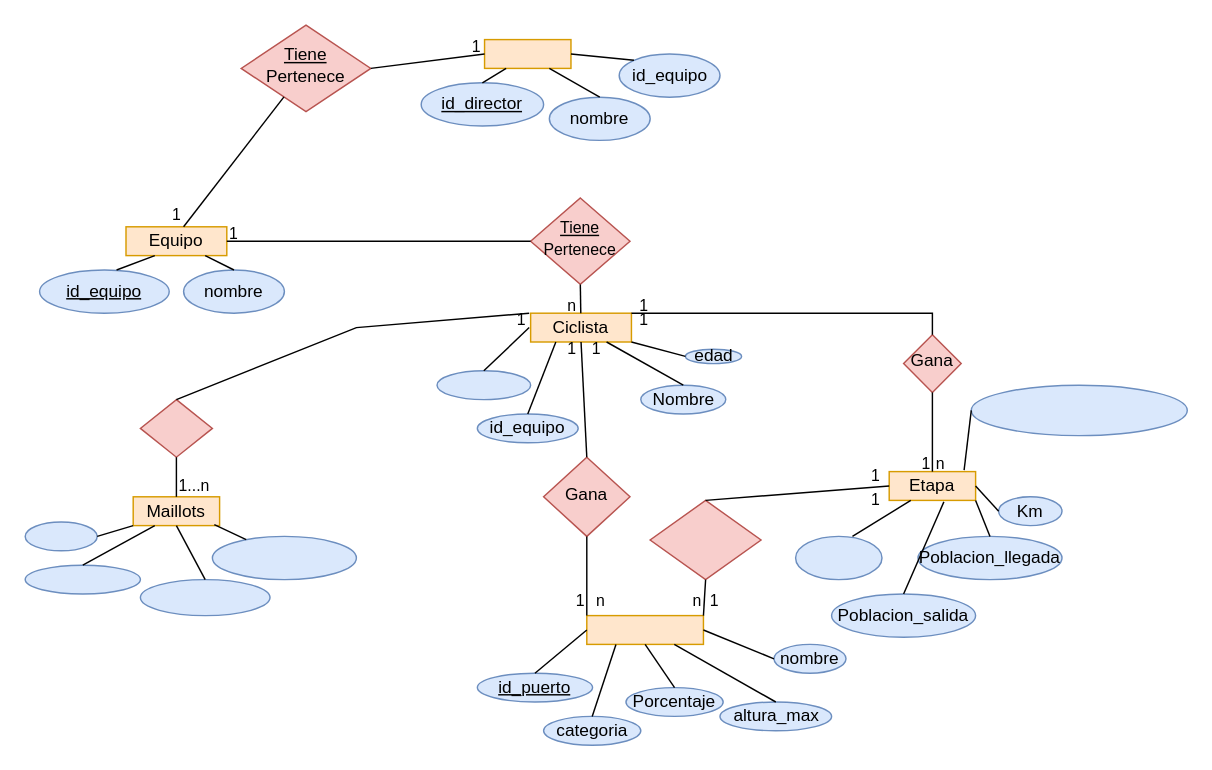
Image size: 1212x770. Some labels were removed from this diagram. Each missing label, with the centre of its shape:
"color_camiseta" belongs at (x=283, y=557).
"Director" belongs at (x=527, y=53).
"id_codigo" belongs at (x=82, y=579).
"id_dorsal" belongs at (x=483, y=384).
"id_dorsal_ganador_etapa" belongs at (x=1078, y=410).
"id_etapa" belongs at (x=838, y=557).
"Lleva" belongs at (x=175, y=427).
"premio_corres." belongs at (x=204, y=597).
"Puerto" belongs at (x=644, y=629).
"Tiene Aparece" belongs at (x=705, y=539).
"tipo" belongs at (x=60, y=536).
